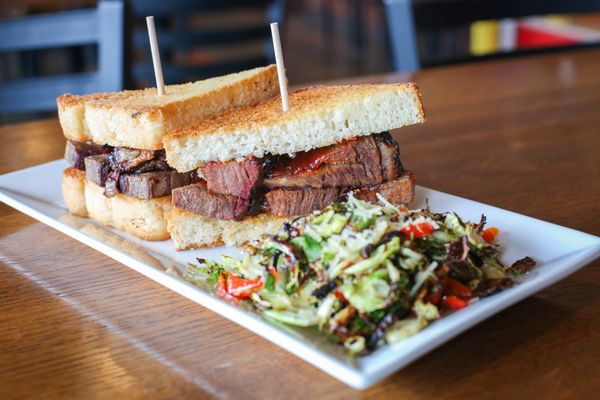soup: (57, 64, 426, 253)
